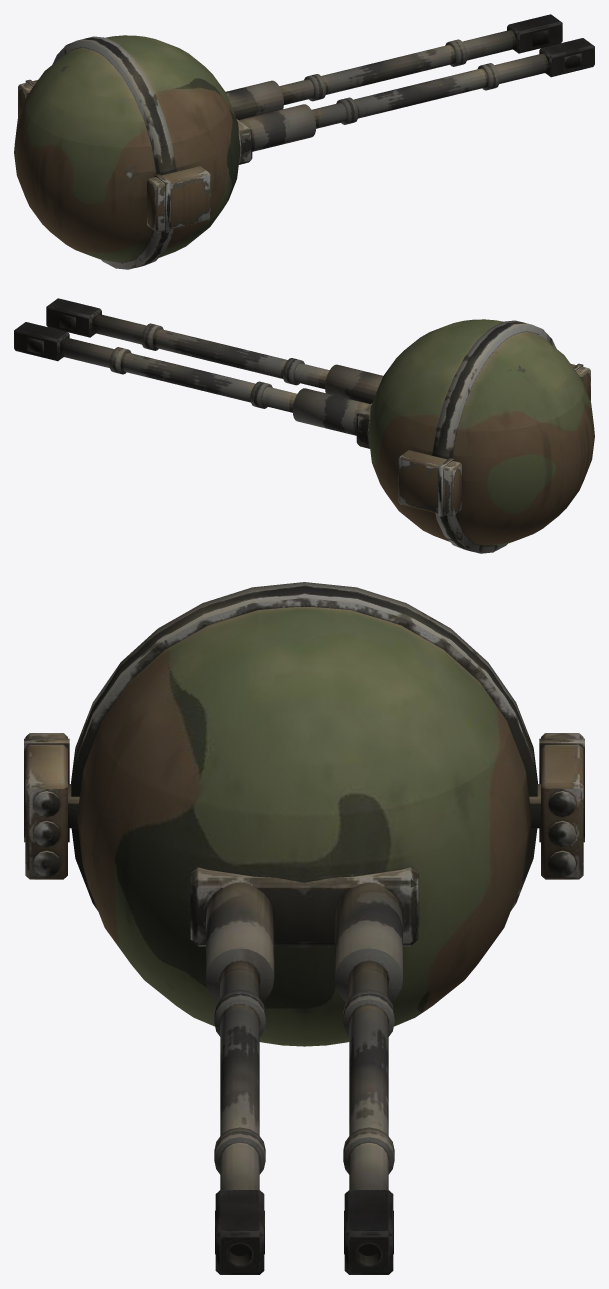
The model's file is turret_kit_tail_ball_t2_forest.glb.
3 views of the same model, one above another, from view 1: azimuth 30°, elevation 25°; view 2: azimuth 150°, elevation 25°; view 3: azimuth 270°, elevation 25° (orthographic). The views are drawn at different scales.
Parts seen in each view (by area): view 1: turret_tail_ball_t2, pods; view 2: turret_tail_ball_t2, pods; view 3: turret_tail_ball_t2, pods.
Part boxes in pixels (x1,y1,x2,y2): turret_tail_ball_t2: (14,14,594,269); pods: (18,79,210,232); turret_tail_ball_t2: (14,298,594,553); pods: (398,363,590,516); turret_tail_ball_t2: (71,582,537,1274); pods: (24,733,584,879).
Bounding box in the file's own units: 1.66 × 0.62 × 0.7402.
Materials: 2 (2 with a texture image).
